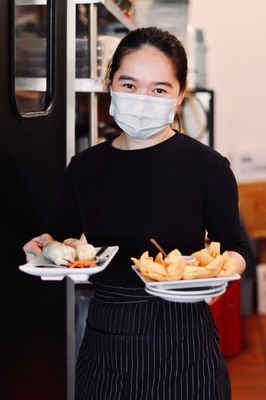pizza: (23, 22, 257, 399)
